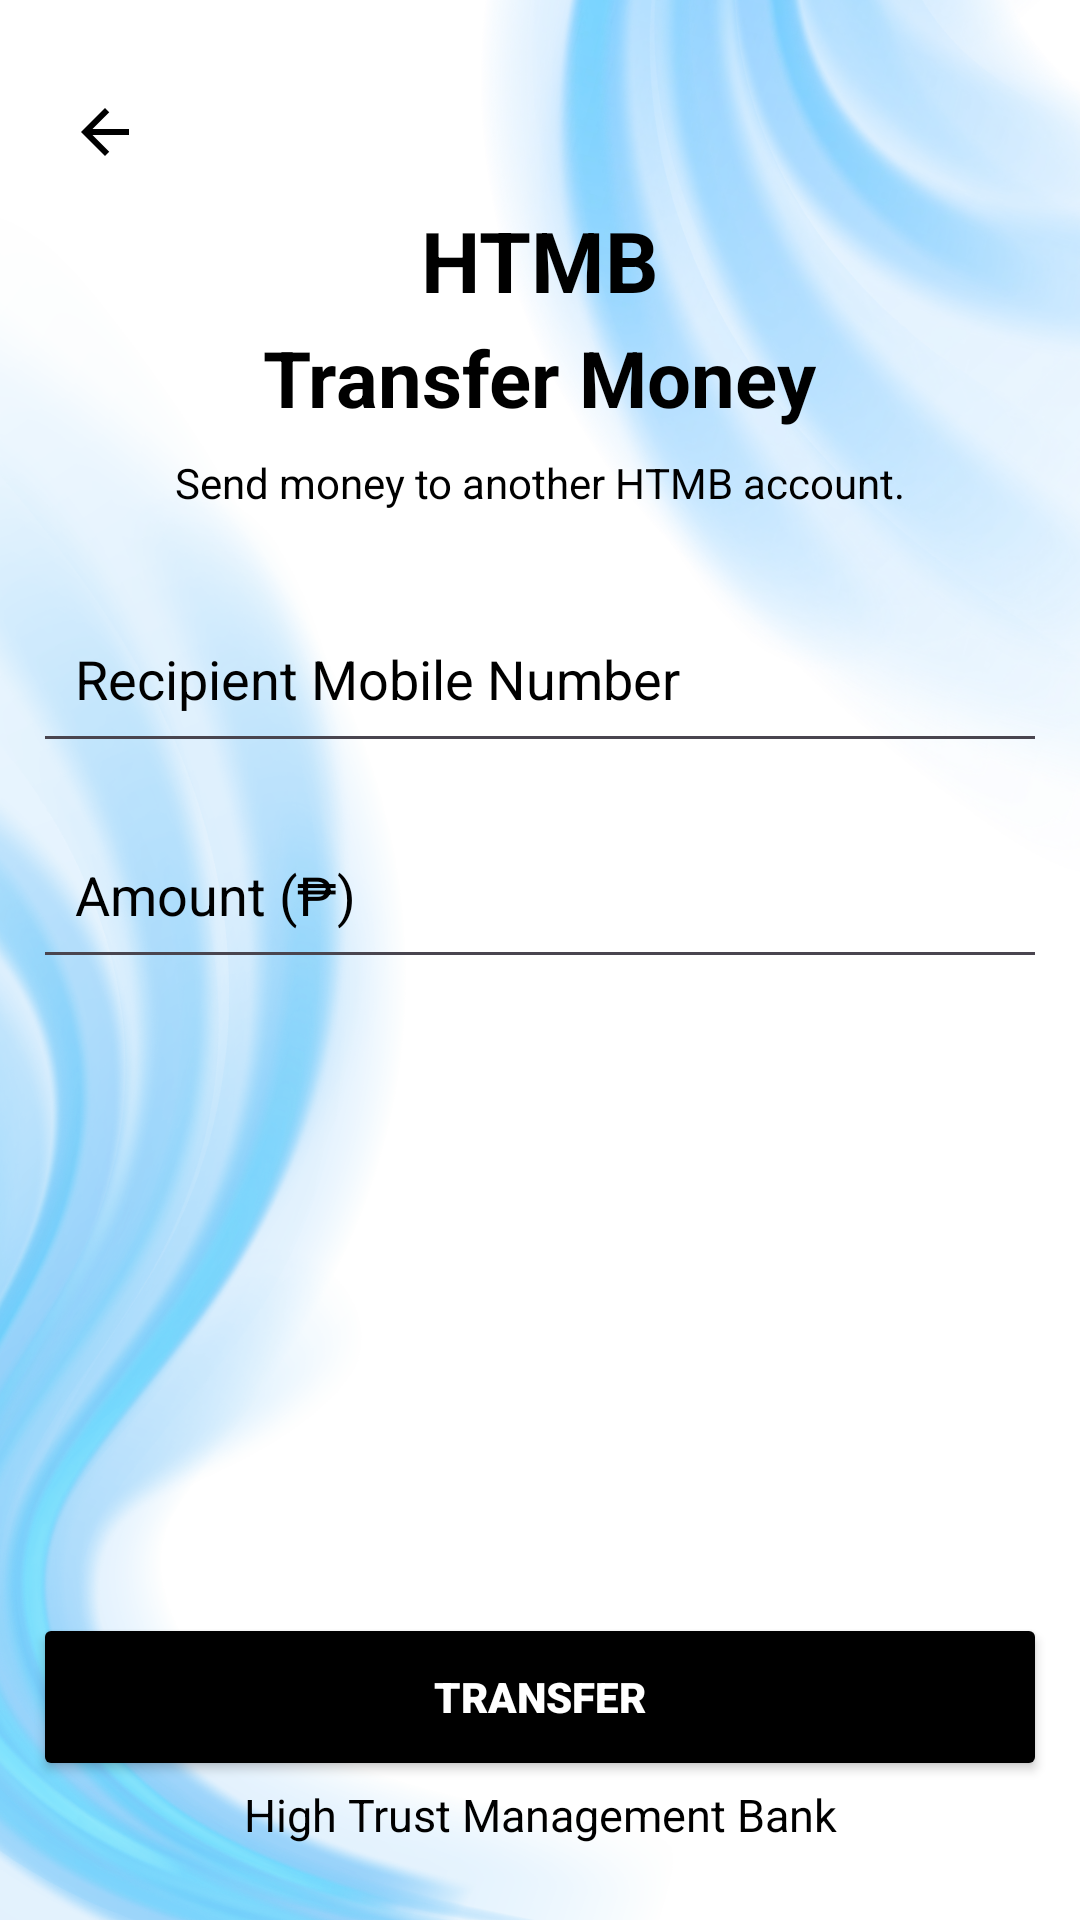

Named icons in this screenshot (1080 × 1920) and their bounding boxes, (x1, y1, x2, y2):
Go back: (81, 108, 129, 156)
